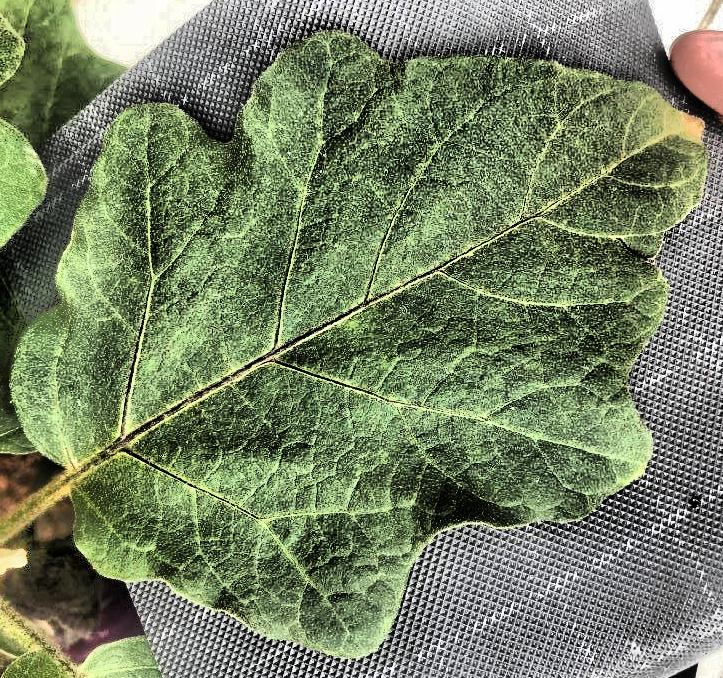HEALTHY: (0, 1, 723, 678)
